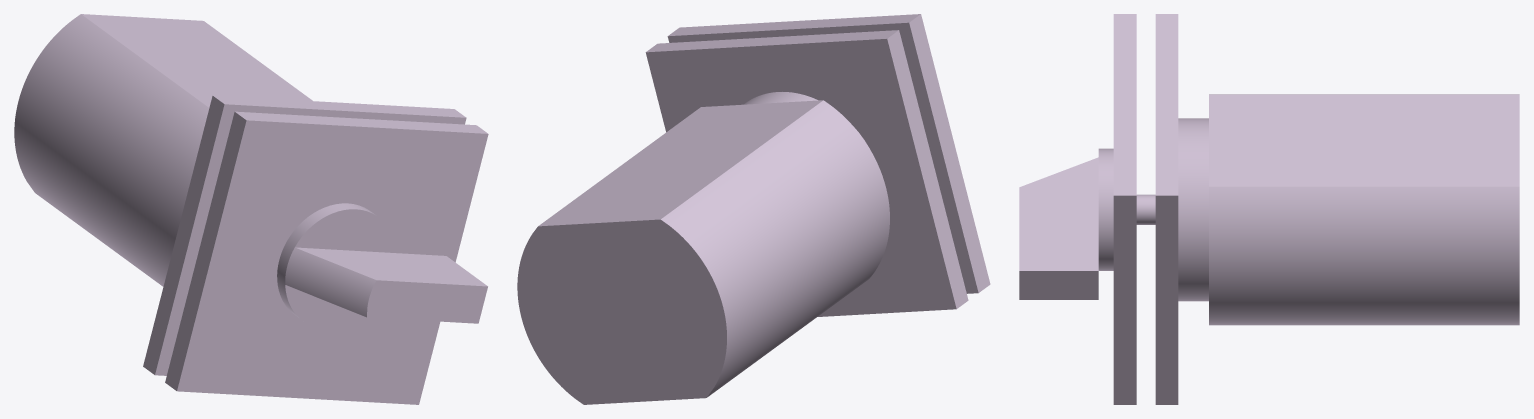
Rendered from POWER ARCHITECTURE__SMARTPLUG INLET SYSTEM__AC rotary switch.glb.
The picture shows the model from 3 angles, left to right: view 1: azimuth 30°, elevation 25°; view 2: azimuth 150°, elevation 25°; view 3: azimuth 270°, elevation 25°; orthographic projection. The views are drawn at different scales.
Parts seen in each view (by area): view 1: AC rotary switch; view 2: AC rotary switch; view 3: AC rotary switch.
Boxes of the visible parts, bbox=[...] form: AC rotary switch: bbox=[14, 14, 488, 404]; AC rotary switch: bbox=[517, 14, 990, 404]; AC rotary switch: bbox=[1019, 14, 1519, 404].
Size of the model in its own units: 0.0712 by 0.0713 by 0.1041.
